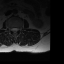CCS_normal: (13, 25, 15, 34)
LFS_normal: (18, 25, 20, 32)
LLS_normal: (15, 25, 18, 33)
RFS_normal: (9, 25, 11, 32)
RLS_normal: (11, 25, 13, 33)
